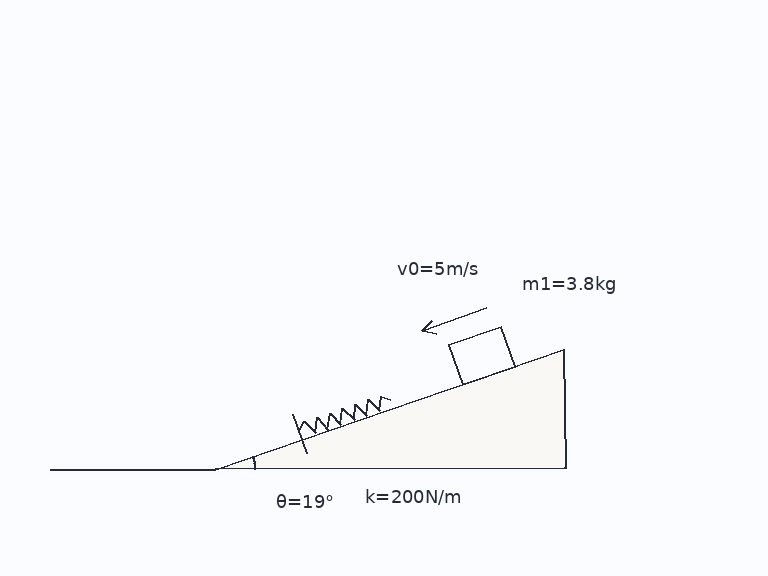block: (447, 325, 517, 386)
ramp: (213, 347, 566, 471)
spring: (297, 393, 392, 435)
